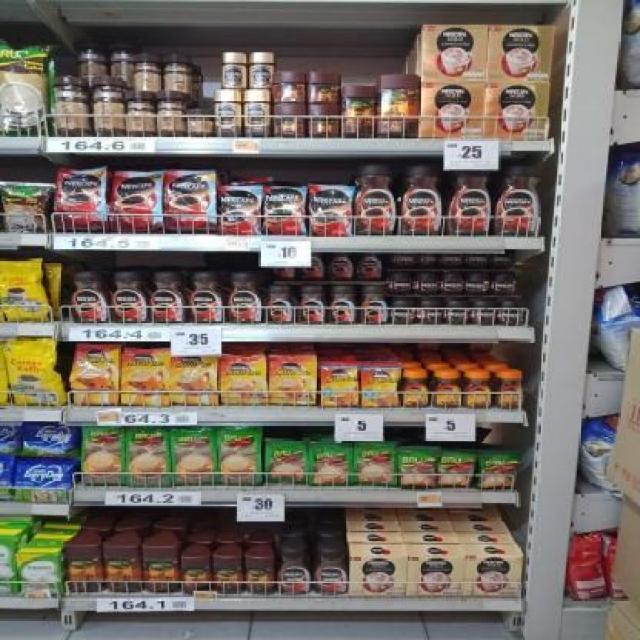Coffee: (497, 165, 544, 236), (354, 165, 400, 237), (400, 166, 446, 235), (448, 166, 494, 235), (167, 172, 217, 232), (59, 169, 106, 229), (72, 346, 118, 406), (116, 172, 162, 230), (123, 349, 167, 406), (170, 350, 216, 404), (218, 357, 266, 404), (269, 356, 315, 404), (309, 184, 351, 236), (262, 187, 306, 235), (218, 187, 260, 236), (227, 272, 265, 325), (69, 272, 108, 323), (185, 272, 224, 323), (149, 270, 185, 324), (108, 271, 146, 321), (320, 365, 357, 407), (361, 364, 397, 407), (313, 551, 349, 593), (278, 552, 314, 594), (359, 285, 391, 324), (430, 370, 463, 407), (327, 285, 359, 323), (297, 285, 329, 323), (214, 90, 240, 136), (244, 90, 268, 136), (267, 285, 296, 323), (400, 370, 428, 406), (465, 371, 493, 407), (495, 372, 524, 406), (222, 52, 246, 88), (250, 53, 272, 89), (446, 299, 472, 325), (390, 300, 416, 324), (474, 299, 498, 325), (419, 300, 443, 326), (329, 255, 355, 277), (500, 302, 526, 324), (358, 256, 382, 279), (415, 271, 439, 294), (390, 271, 413, 294), (467, 273, 490, 295), (495, 273, 517, 295), (442, 273, 464, 293), (391, 254, 415, 268), (417, 253, 439, 267), (490, 253, 512, 267), (464, 254, 486, 268), (441, 253, 462, 267)
